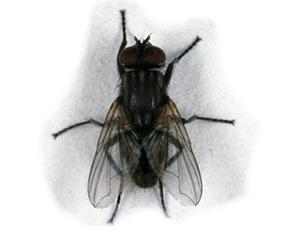house fly: (46, 5, 237, 224)
